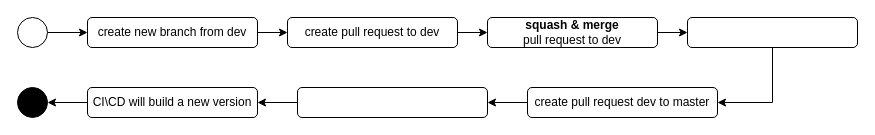
Image size: 875x135. Some labels were removed from this diagram. Here are the shapes that lost their labels. From the top down, the box of each, then its label:
(686, 16, 858, 48): delete unused branch
(296, 86, 488, 118): merge pull request dev to master
